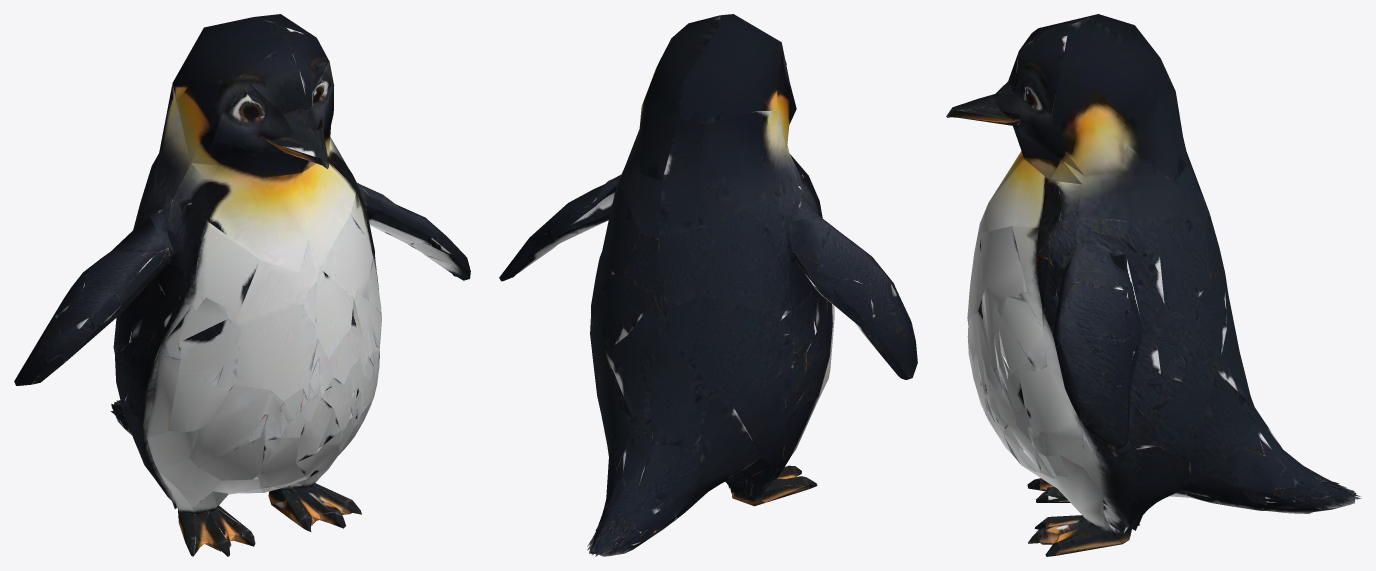
The model's file is penguin-lod.glb.
The picture shows the model from 3 angles, left to right: view 1: azimuth 30°, elevation 25°; view 2: azimuth 150°, elevation 25°; view 3: azimuth 270°, elevation 25°; orthographic projection. The views are drawn at different scales.
Size of the model in its own units: 1.78 by 1.9 by 1.44.
1 material, 1 textured.
